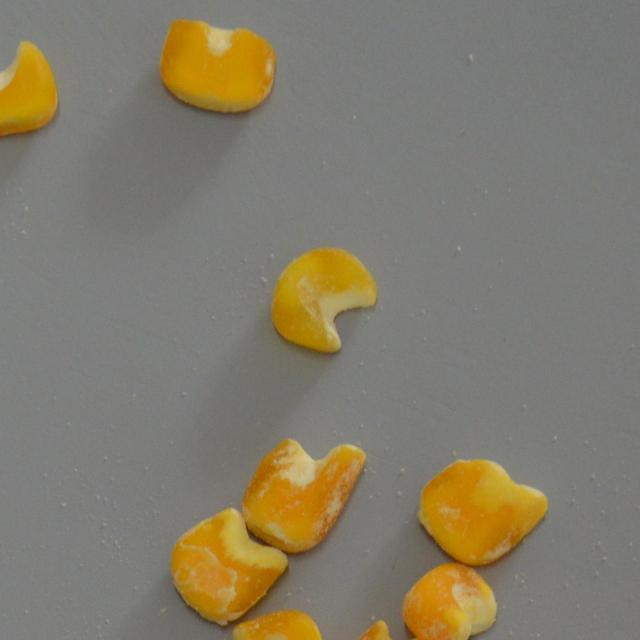pelicula: (241, 434, 365, 552), (170, 506, 286, 624), (418, 458, 546, 564), (270, 245, 378, 355), (160, 18, 276, 115), (400, 562, 498, 640), (0, 34, 62, 138), (229, 610, 326, 640), (320, 618, 432, 640)
